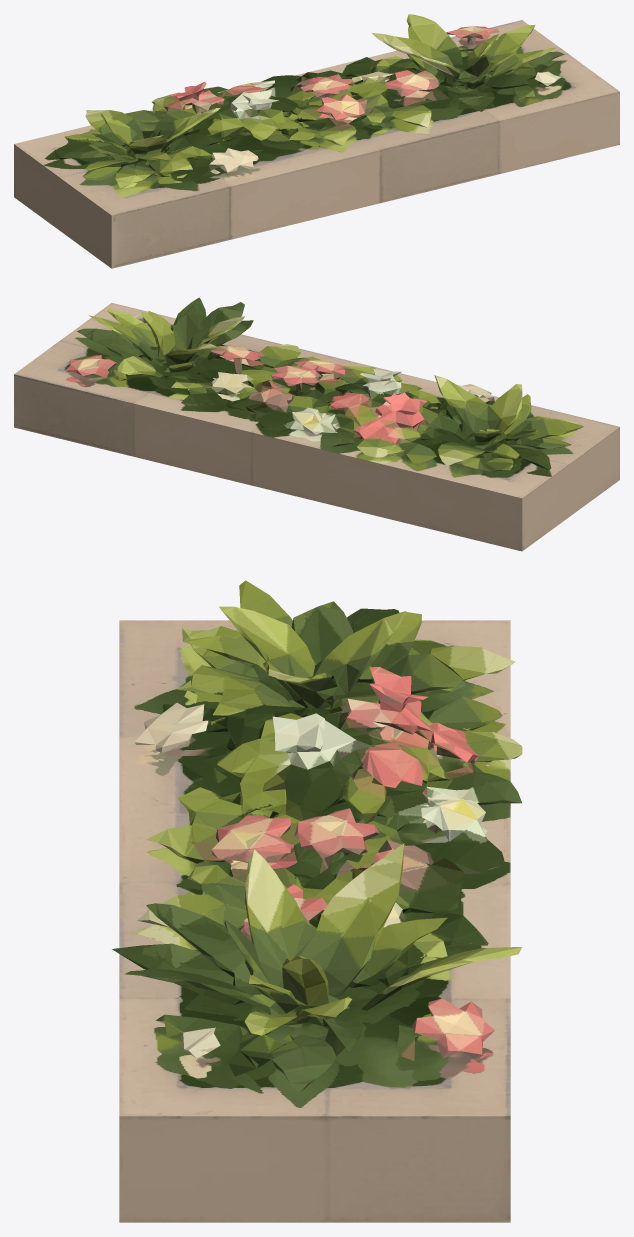
Rendered from flowerbed.glb.
3 renders of one model, top to bottom at view 1: azimuth 30°, elevation 25°; view 2: azimuth 150°, elevation 25°; view 3: azimuth 270°, elevation 25°, orthographic. The views are drawn at different scales.
Visible parts, largest first — view 1: body; view 2: body; view 3: body.
Boxes of the visible parts, bbox=[...] form: body: bbox=[14, 14, 619, 268]; body: bbox=[14, 297, 619, 551]; body: bbox=[112, 580, 522, 1222].
Bounding box in the file's own units: 3 × 0.5934 × 1.05.
1 material, 1 textured.
